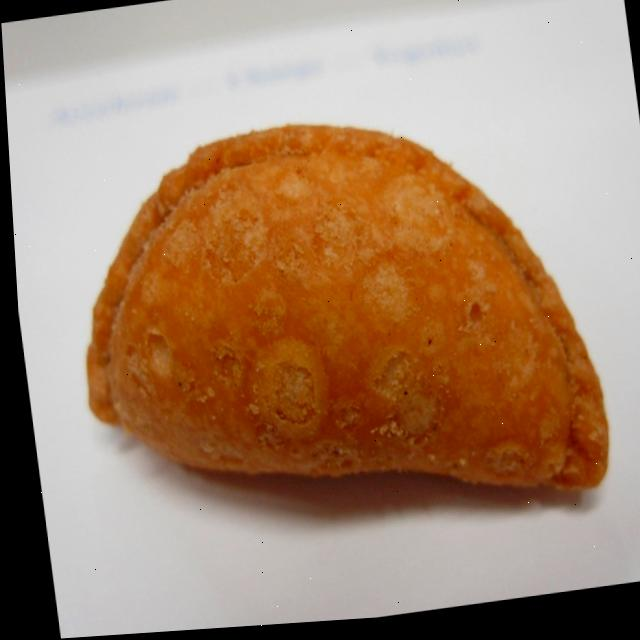炸货点心: (25, 41, 640, 619)
